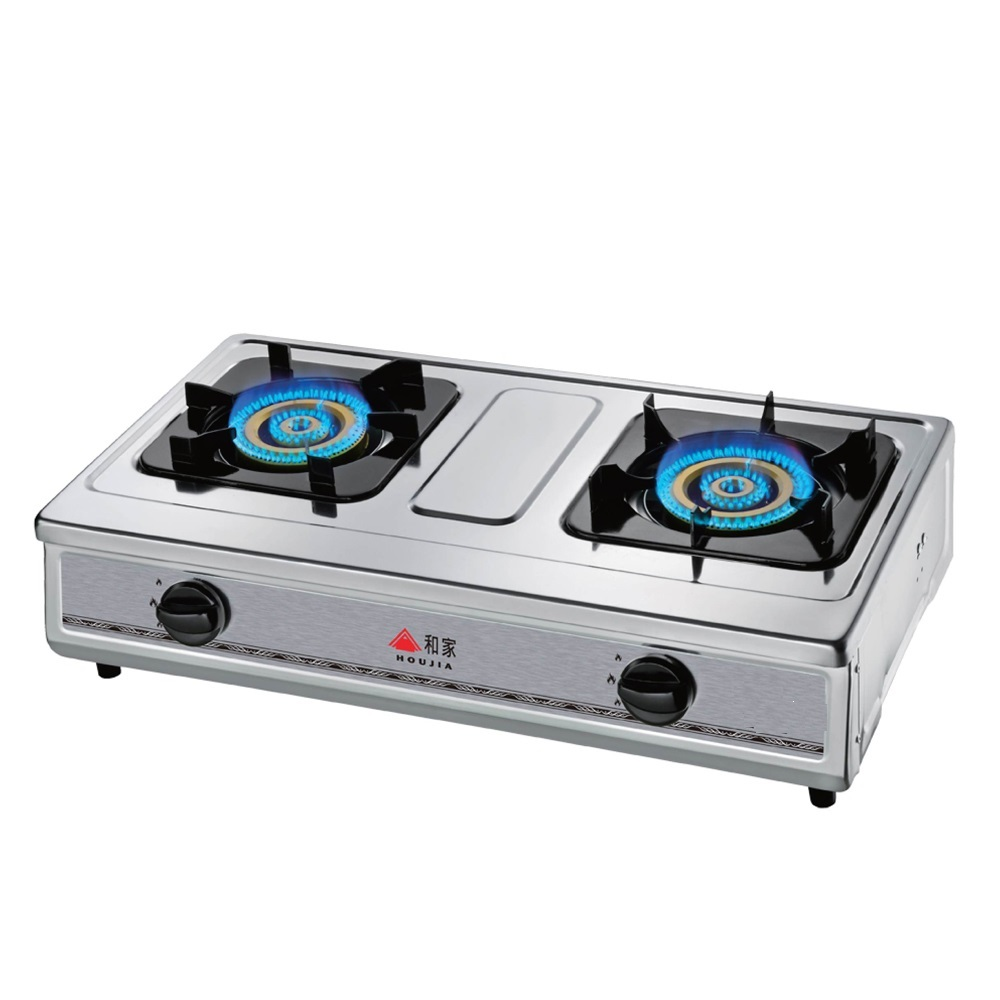gasoven: (25, 327, 957, 812)
